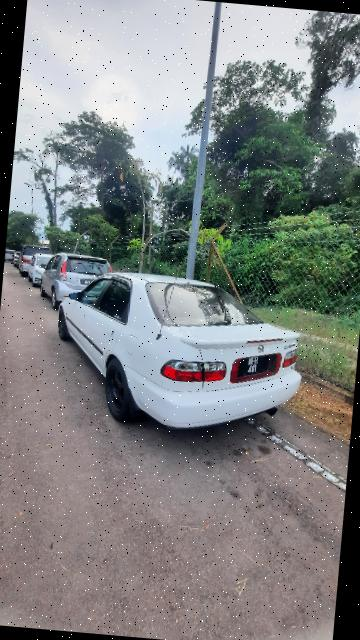License_Plate: (237, 350, 278, 383)
car: (45, 266, 313, 444)
